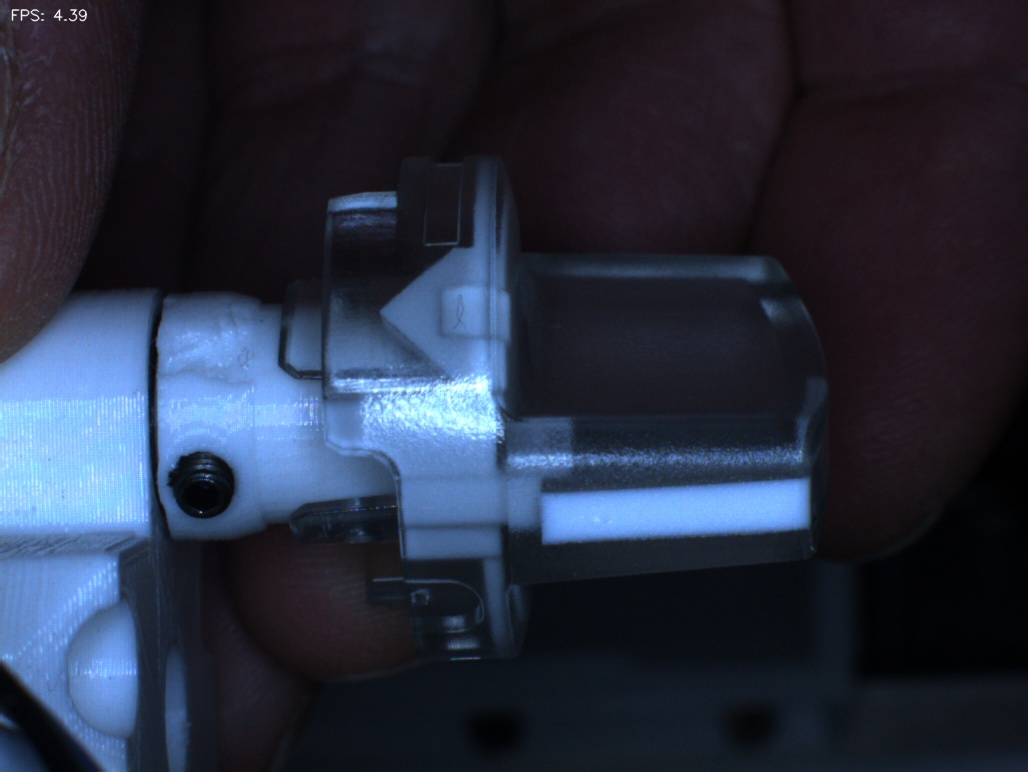DentOk: (349, 269, 427, 364)
